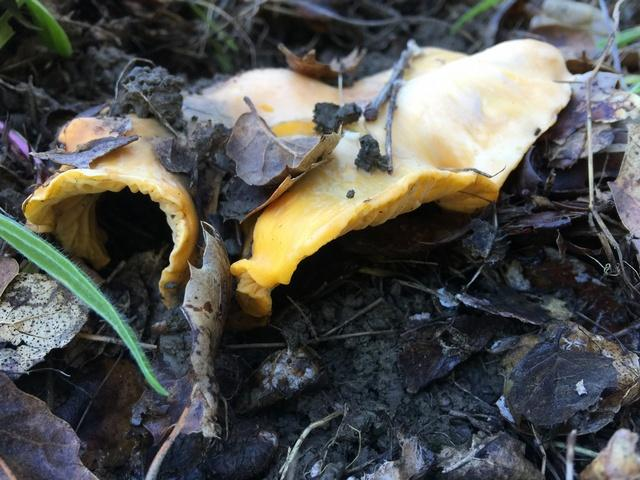Edible Mushroom: (226, 35, 573, 319), (17, 106, 209, 306)
